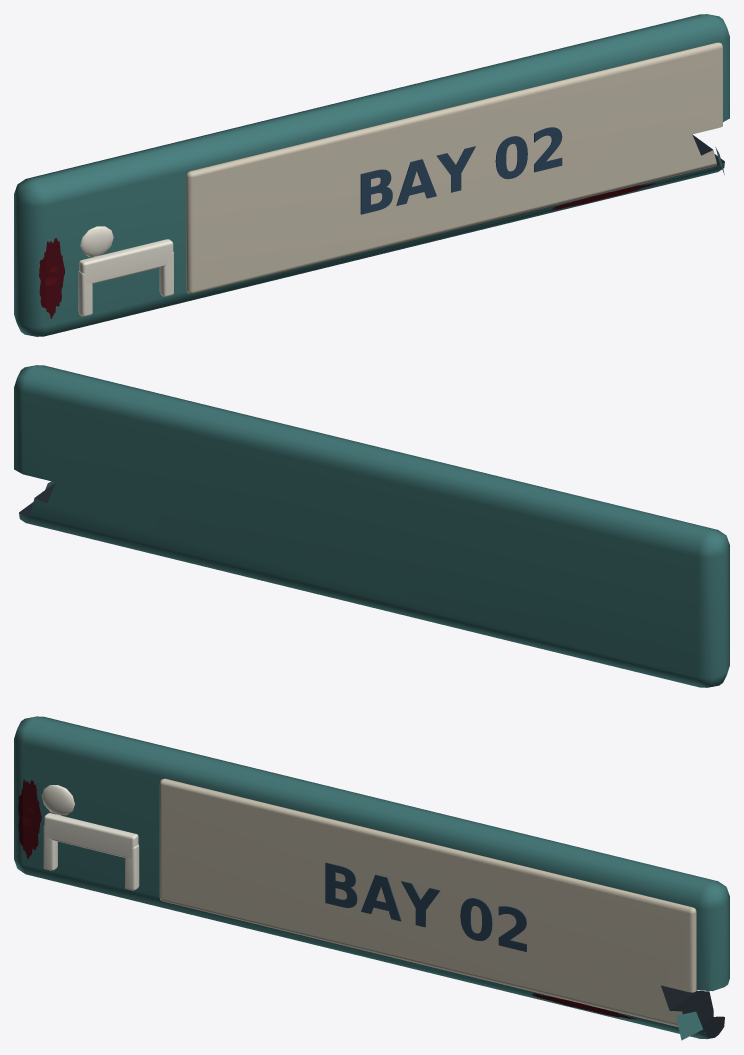
The model's file is clinical_sign_bay02.glb.
3 renders of one model, top to bottom at view 1: azimuth 30°, elevation 25°; view 2: azimuth 150°, elevation 25°; view 3: azimuth 330°, elevation 25°, orthographic.
Parts seen in each view (by area): view 1: clinical_sign_bay02_Outbreak_Static; view 2: clinical_sign_bay02_Outbreak_Static; view 3: clinical_sign_bay02_Outbreak_Static.
Part boxes in pixels (x1=…): clinical_sign_bay02_Outbreak_Static: x1=14, y1=14, x2=729, y2=336; clinical_sign_bay02_Outbreak_Static: x1=14, y1=365, x2=729, y2=687; clinical_sign_bay02_Outbreak_Static: x1=14, y1=716, x2=729, y2=1040.
Size of the model in its own units: 1.48 by 0.31 by 0.122.
